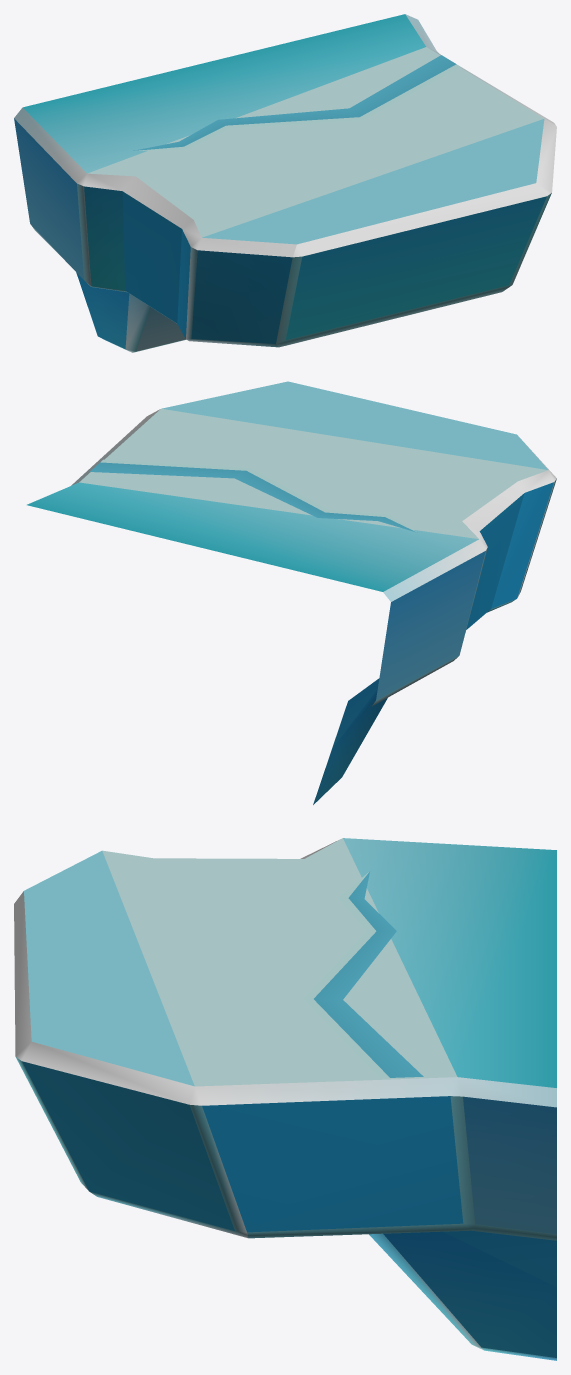
The model's file is IcePlatform.glb.
The picture shows the model from 3 angles, top to bottom: view 1: azimuth 30°, elevation 25°; view 2: azimuth 150°, elevation 25°; view 3: azimuth 270°, elevation 25°; orthographic projection. The views are drawn at different scales.
Parts seen in each view (by area): view 1: IcePlatform; view 2: IcePlatform; view 3: IcePlatform.
Part boxes in pixels (<box>): IcePlatform: <box>14,14,556,352</box>; IcePlatform: <box>27,381,556,804</box>; IcePlatform: <box>14,838,556,1360</box>.
Size of the model in its own units: 1.9 by 1.09 by 1.66.
